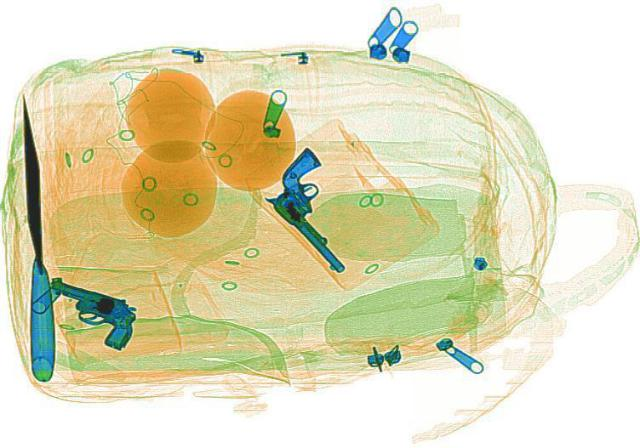Gun: (238, 146, 402, 272), (22, 275, 154, 348)
Knife: (11, 92, 57, 378)
